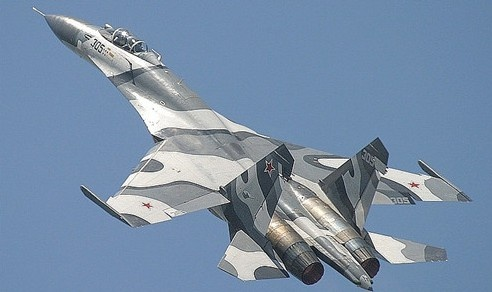airplane: (26, 6, 474, 292)
